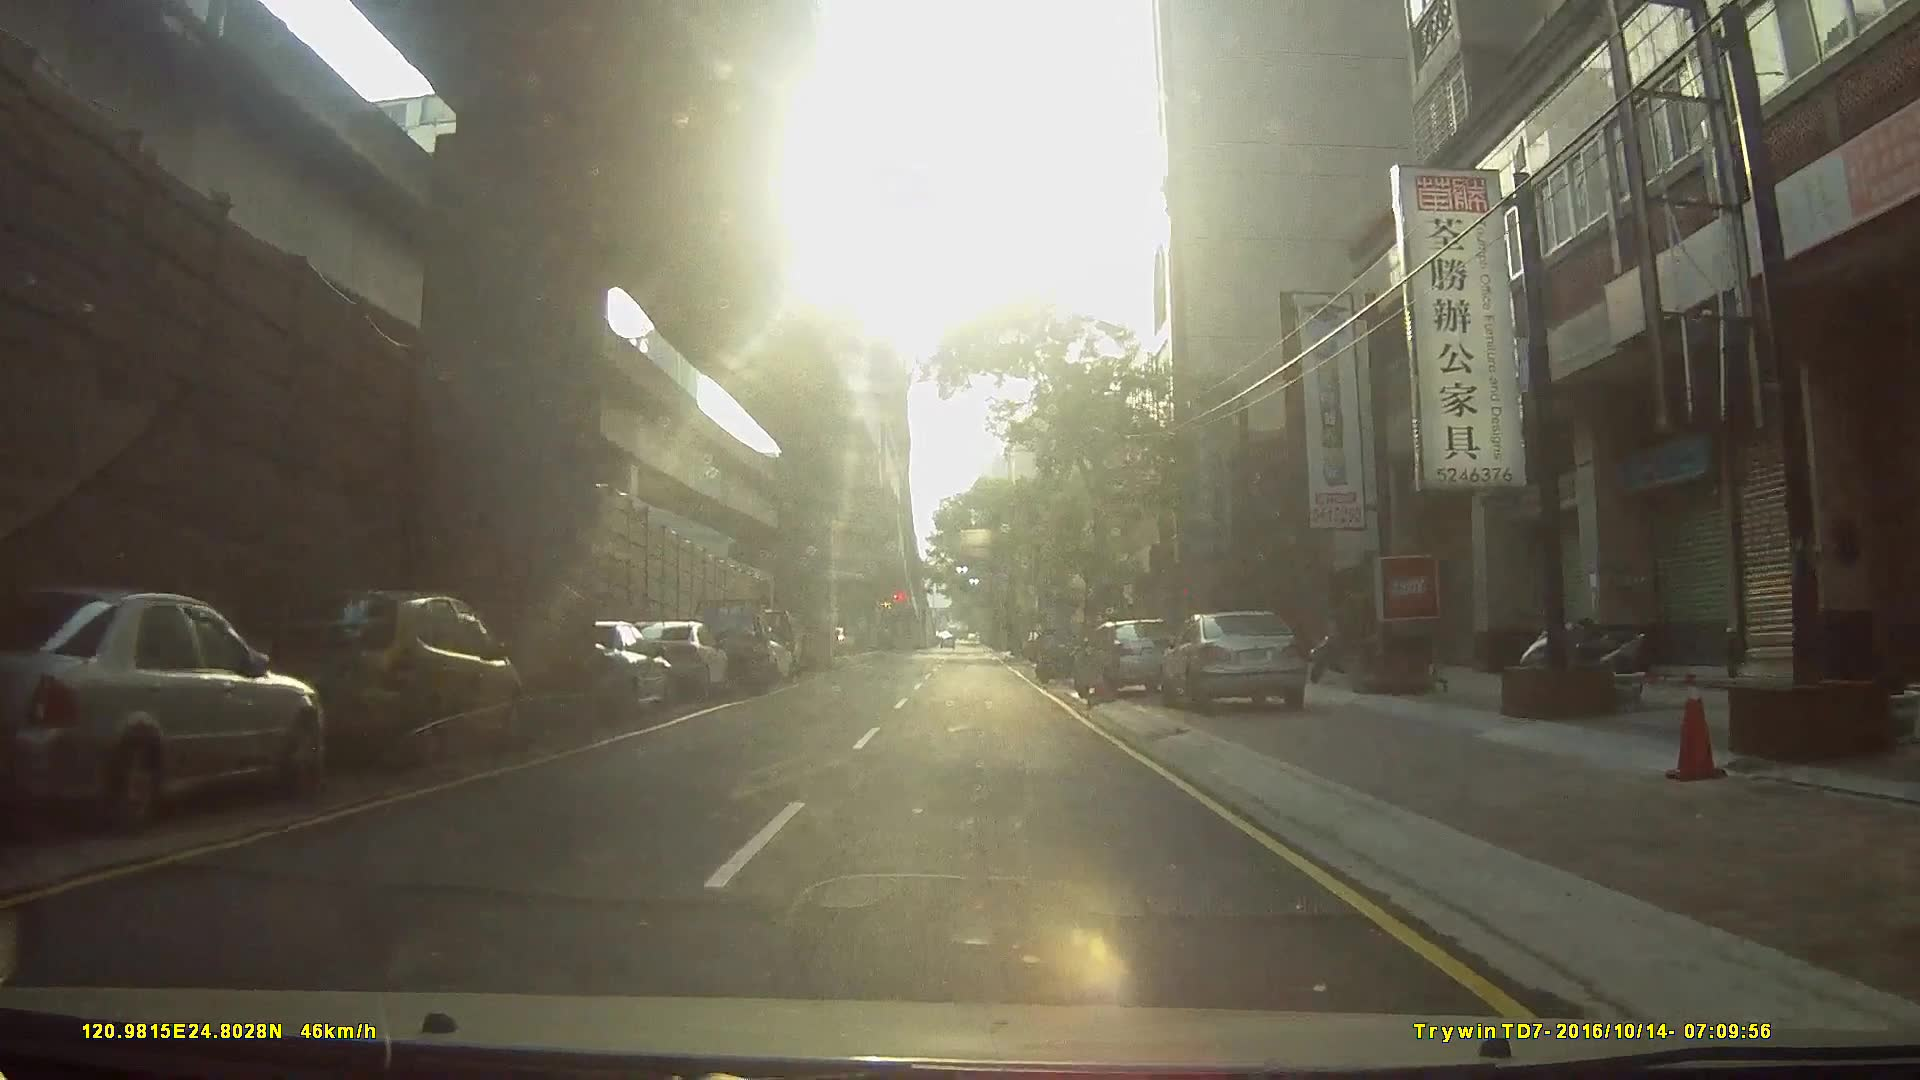rider: (1034, 626, 1081, 682)
vehicle: (1, 576, 341, 832), (231, 585, 518, 775), (1157, 608, 1313, 715), (542, 616, 672, 727), (680, 596, 774, 693), (1074, 616, 1183, 698), (621, 618, 731, 697)
